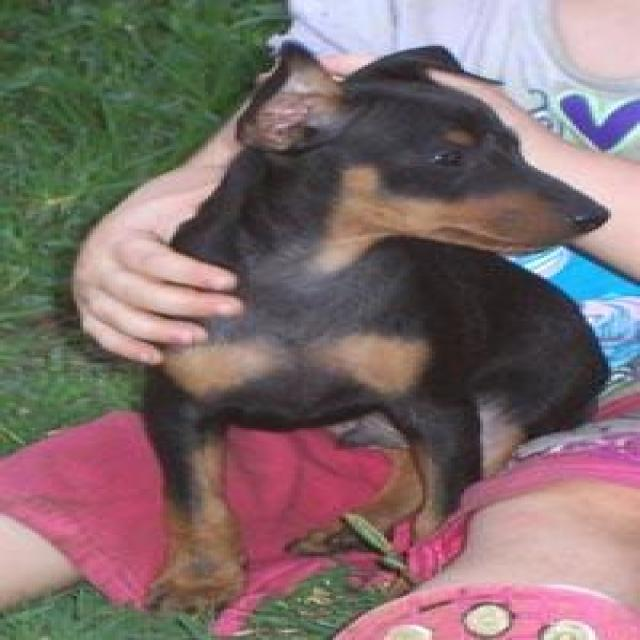toy_terrier: (148, 40, 614, 625)
